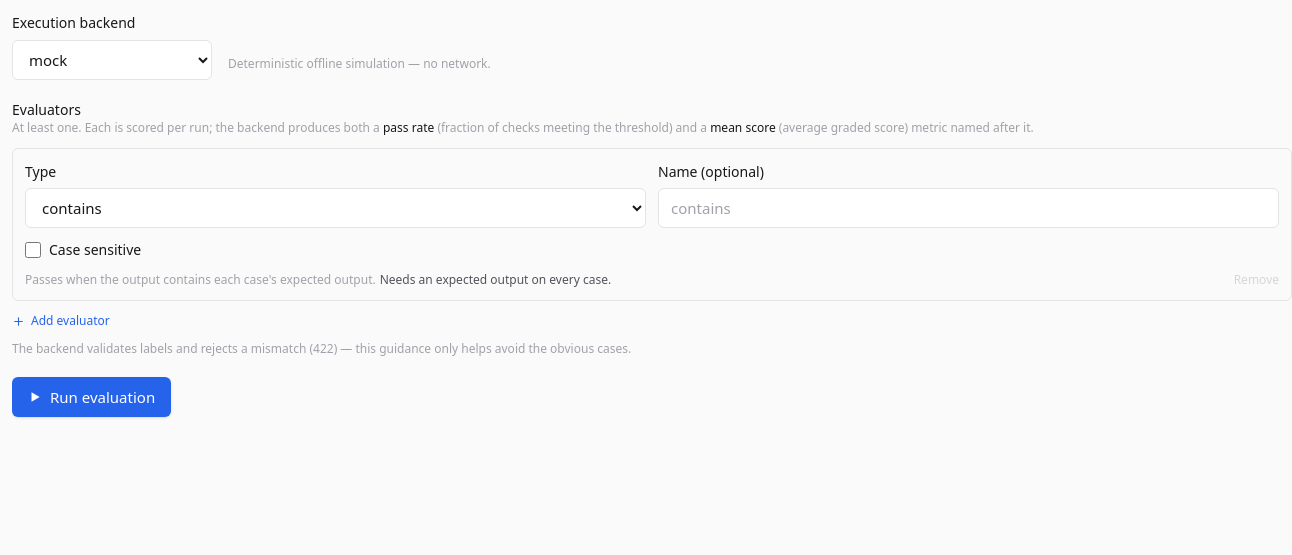
Scenario: RunForm — RAG & agent evaluator configuration › shows the agent threshold, label requirement, and agent product copy
Select "tool_arguments" in the dropdown labelled "Type" at {"x": 336, "y": 208}, box [25, 188, 646, 228]
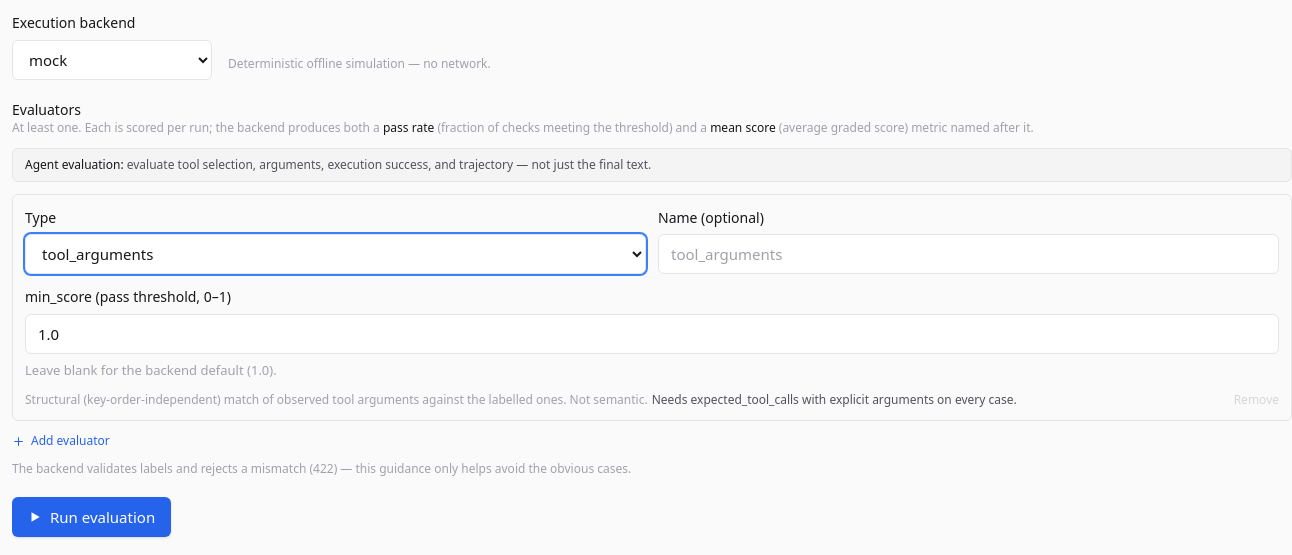
Now the number field labelled "min_score (pass threshold, 0–1)" is shown, box [25, 314, 1279, 354]
Now the text "Needs expected_tool_calls with explicit arguments" is shown, box [652, 391, 1017, 408]
Now the text "tool selection, arguments, execution success, and trajectory" is shown, box [127, 156, 651, 173]
